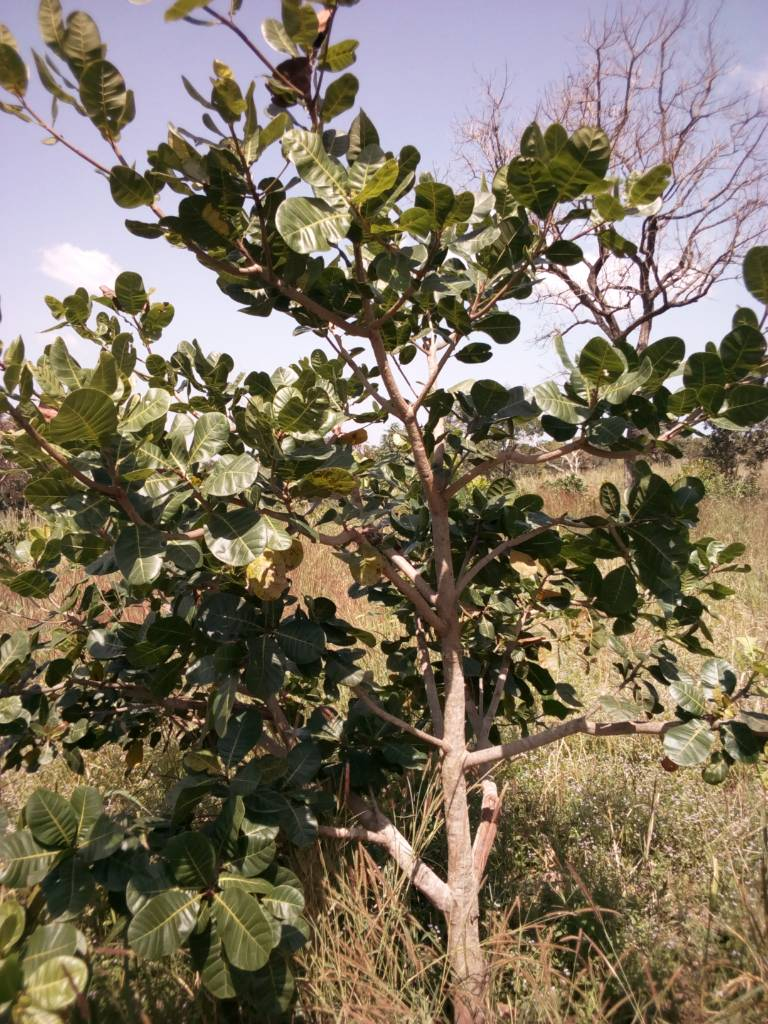Helopeltis anacardii: (283, 127, 349, 200), (504, 124, 555, 213), (279, 194, 354, 252)
